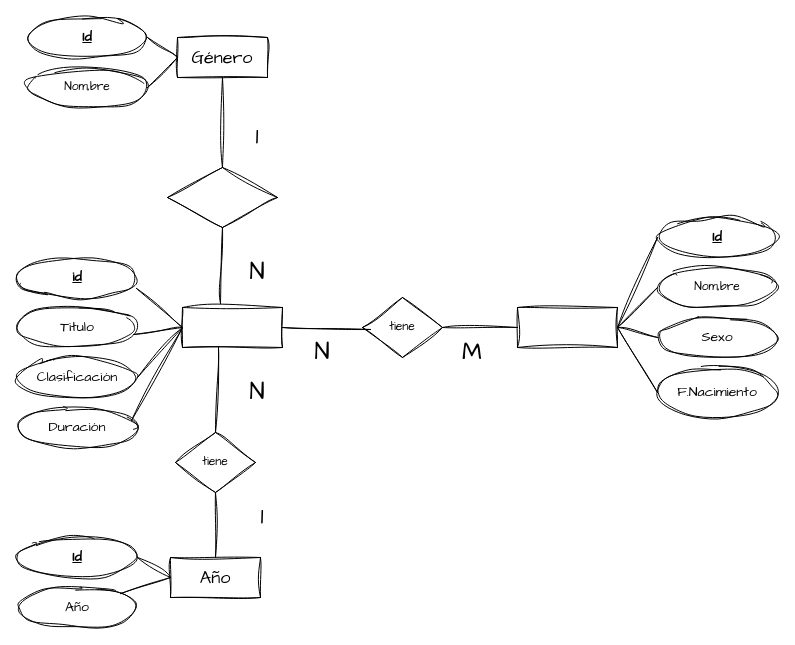
This 795x645 diagram has some shape labels left out. Each missing label, with the centre of its shape:
"Película" goes at pixel 232 327.
"pertenece" goes at pixel 222 197.
"Reparto" goes at pixel 567 327.
